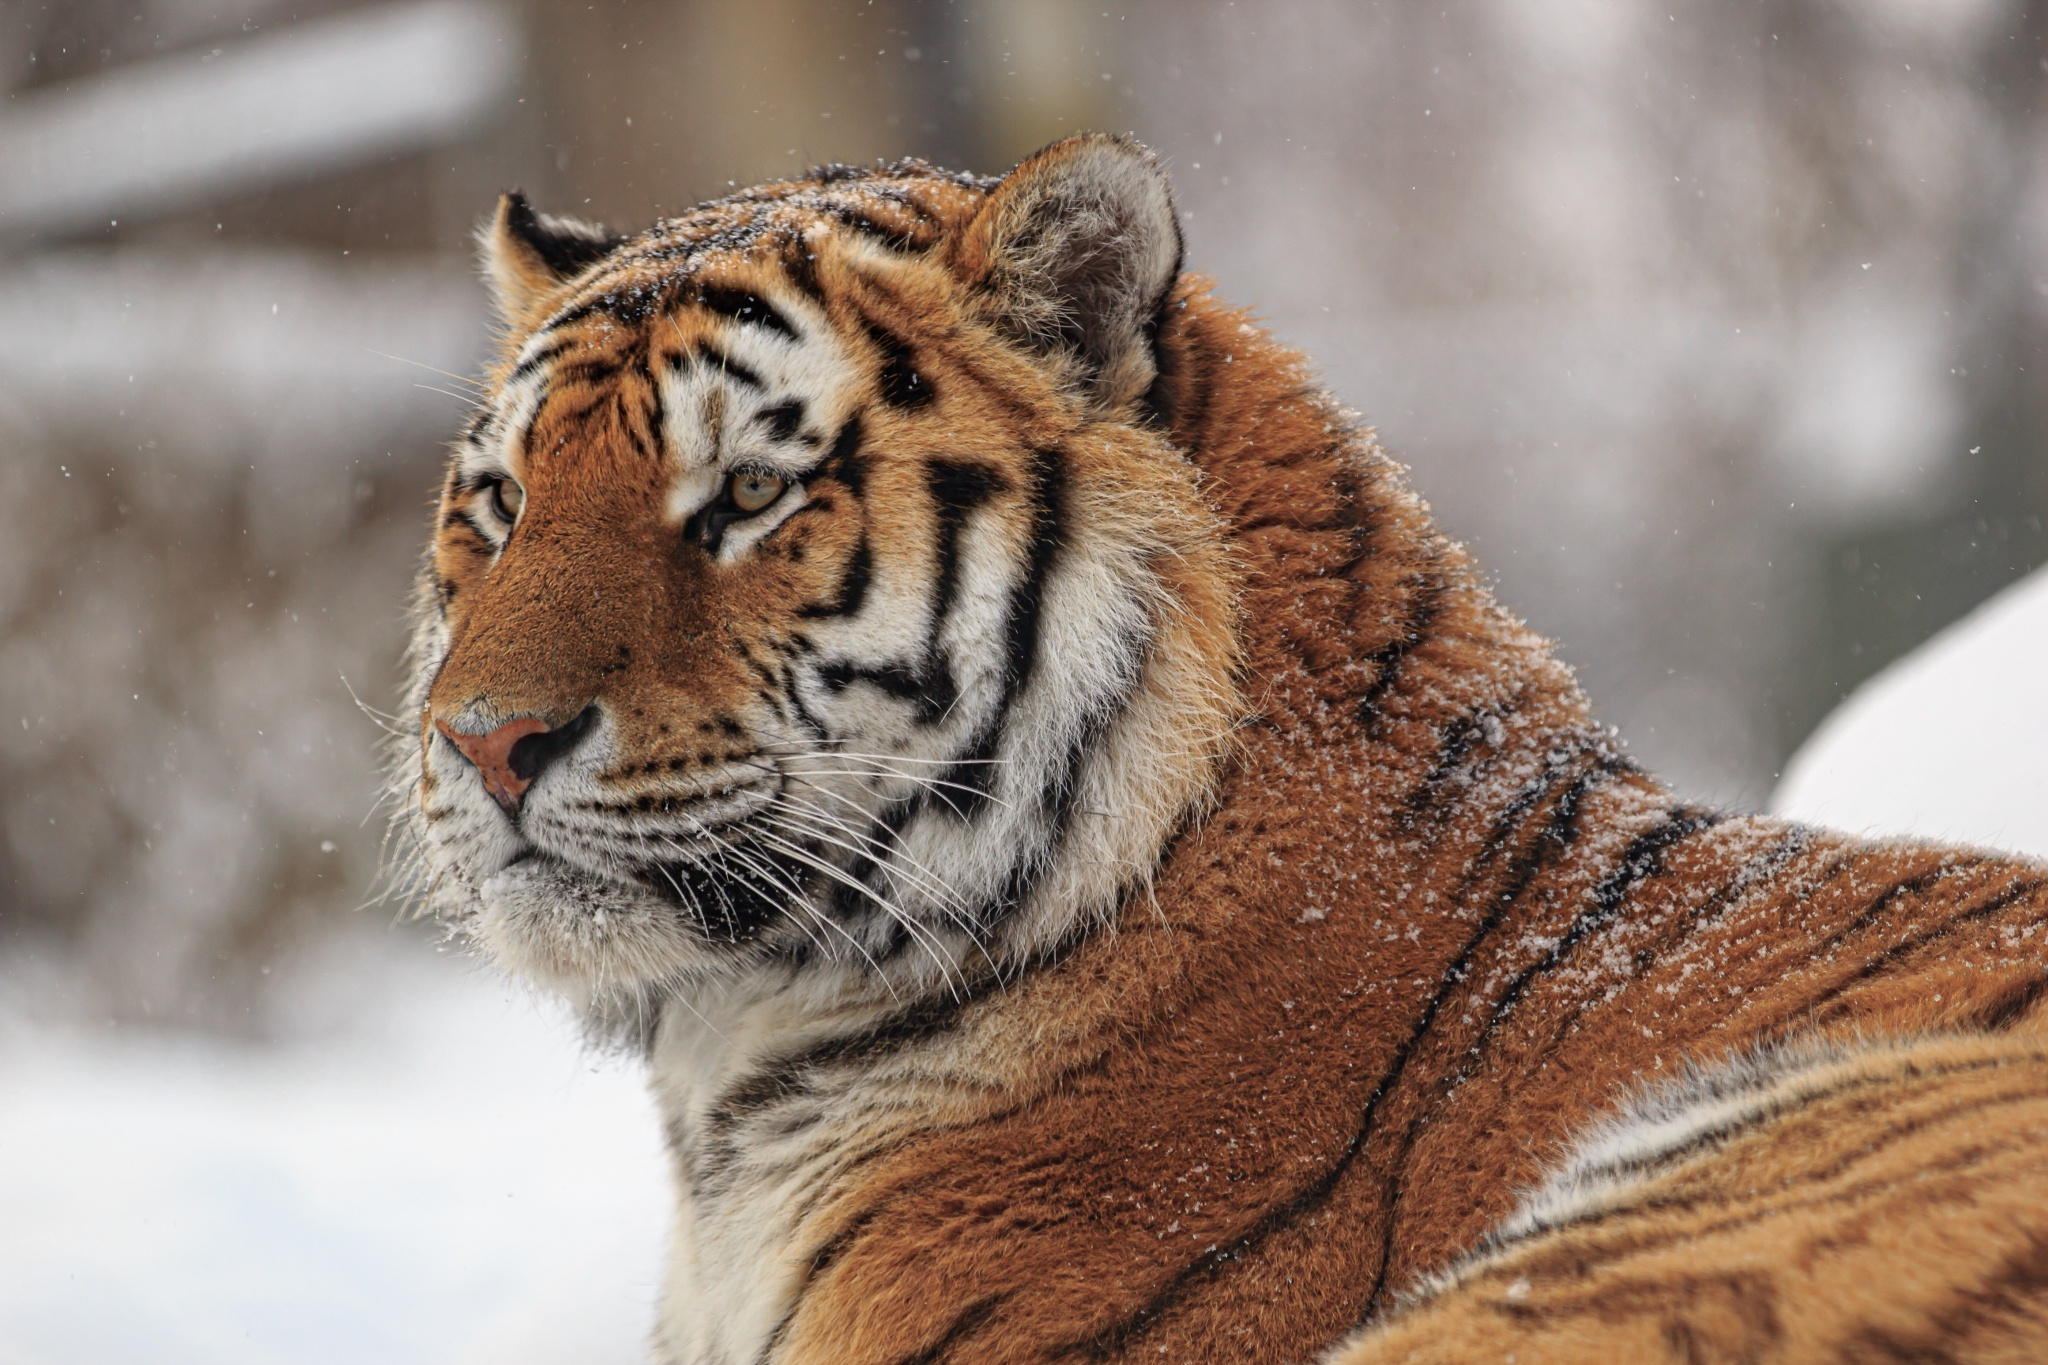tiger: (385, 163, 1934, 1258)
